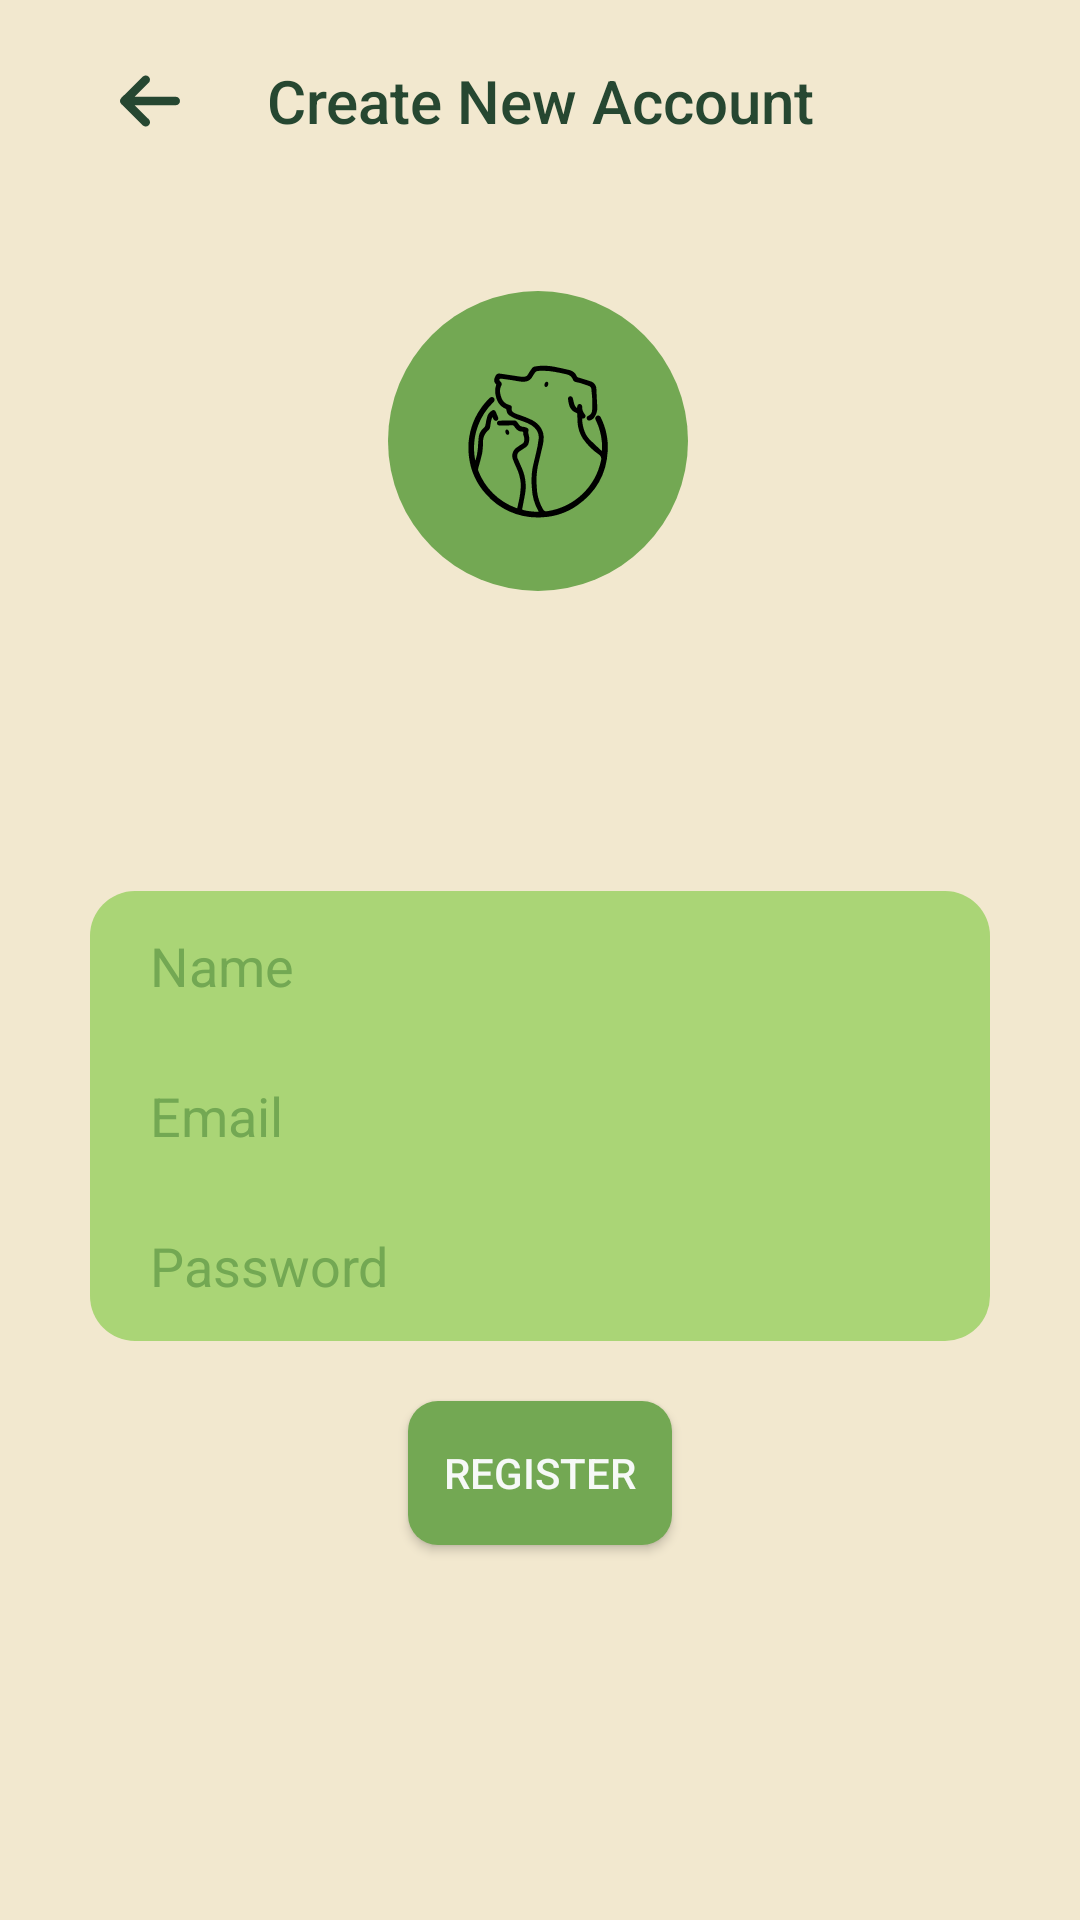

Where icons sit on this 1080×1920 app screen, as [left=x1, top=y1, right=x2, bottom=y2]:
arrow left: [left=120, top=75, right=180, bottom=127]
dog cat: [left=388, top=291, right=688, bottom=591]
